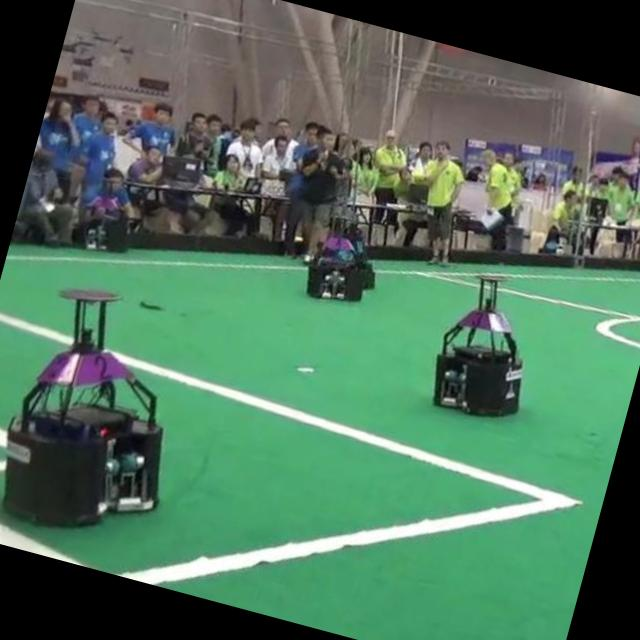robot: (2, 289, 161, 524), (433, 276, 522, 415), (306, 216, 365, 300), (348, 230, 376, 290)
